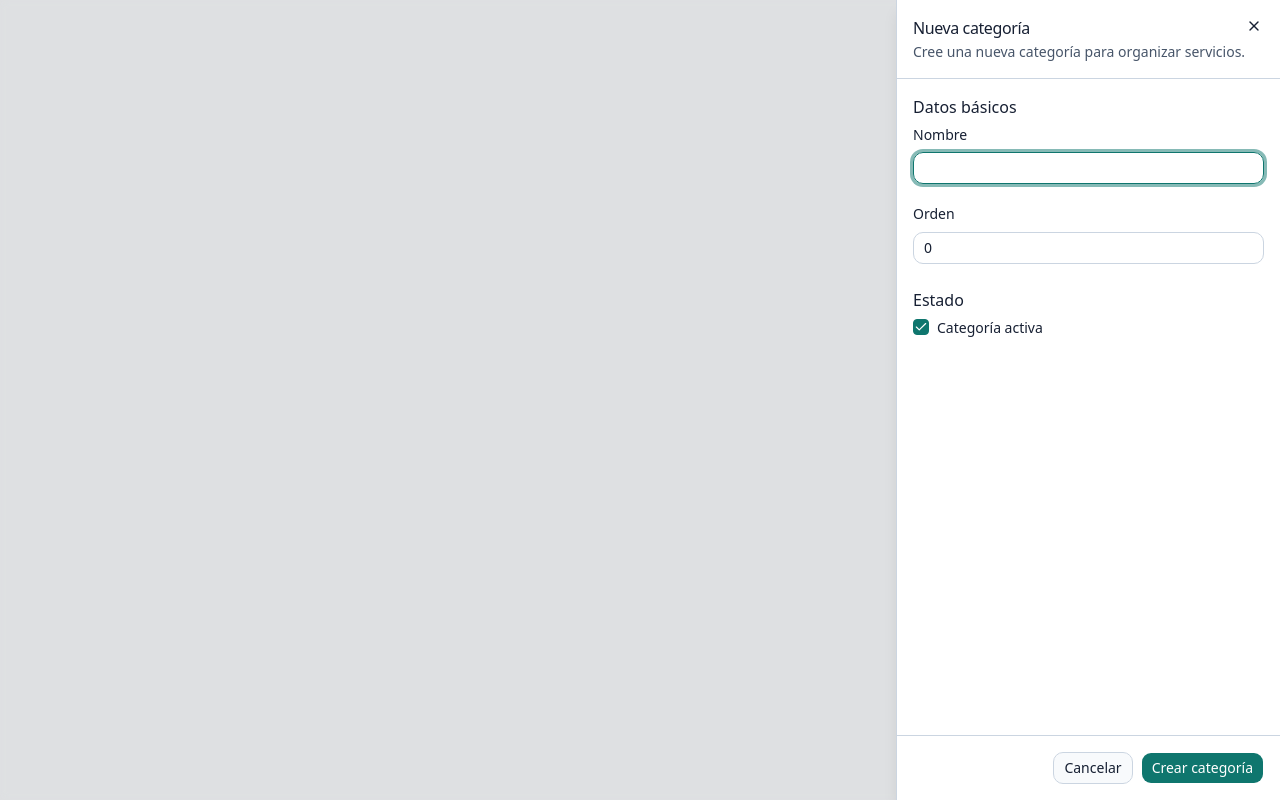
it: CategoryDrawer › reports safe server errors without closing
In the field labelled "Nombre": (1088, 168) [913, 152, 1264, 184], type "Cardiologia"
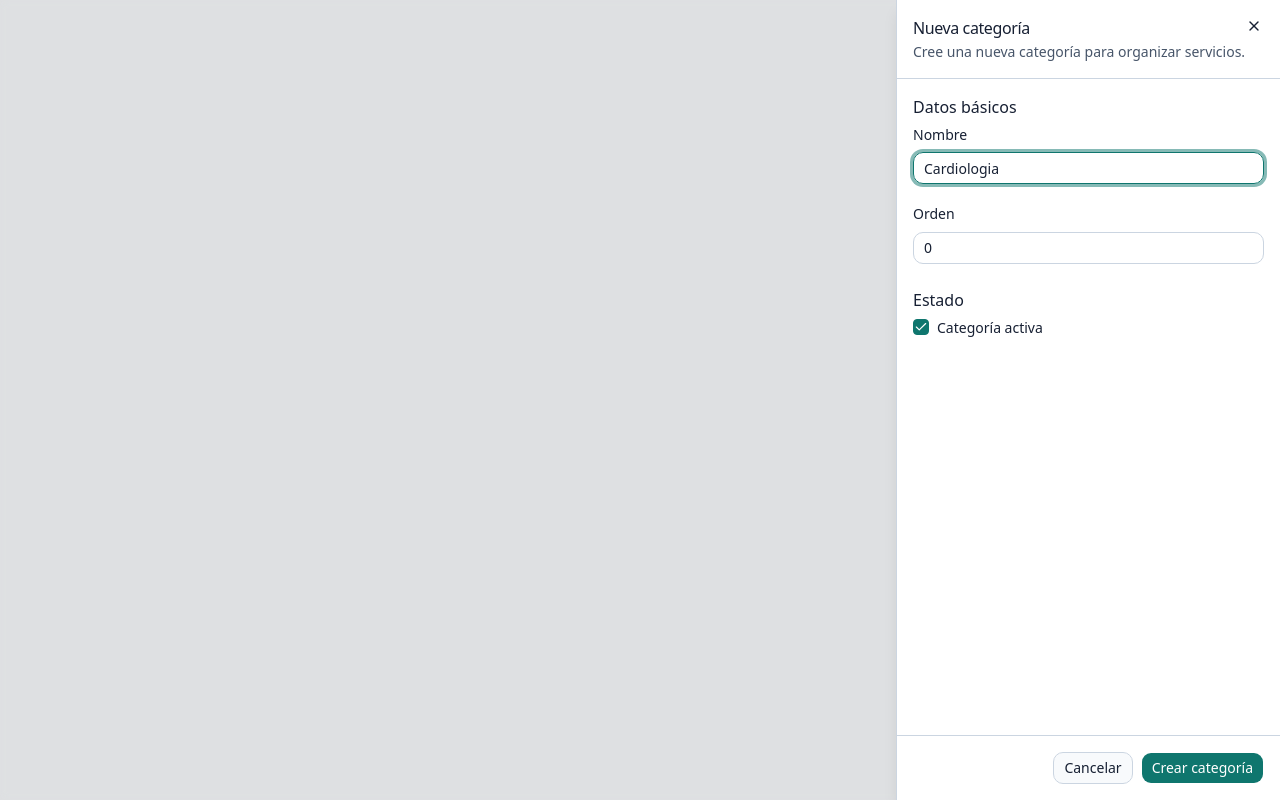
Click the button "Crear categoría": (1202, 768) [1141, 752, 1264, 784]
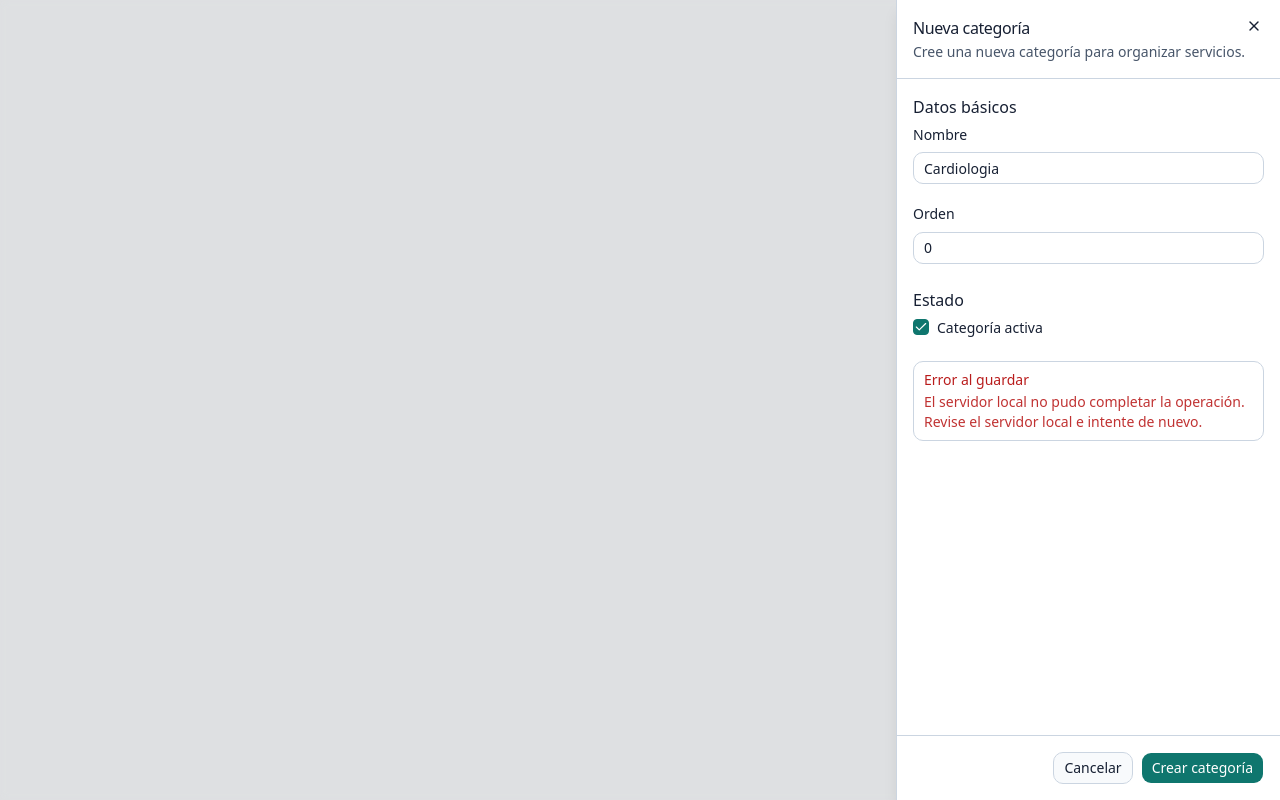
Now the text "servidor local no pudo completar" is shown, box [924, 392, 1245, 431]
